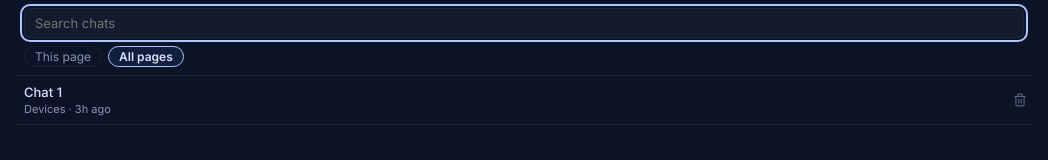
Test: AiChatHistory search and scope › says nothing matched when a search finds no chats
Expected: the button with test id "ai-chat-history-item-1" is shown, top-left (12, 76), bottom-right (1004, 124)
In the search field with test id "ai-chat-history-search": (524, 23) top-left (24, 8), bottom-right (1024, 38), type "zzz"
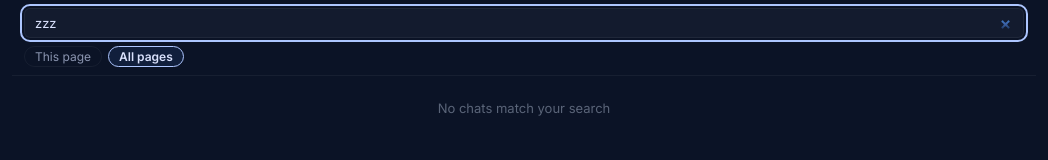
Expected: the element with test id "ai-chat-history-empty" reads "No chats match your search", top-left (438, 100), bottom-right (610, 116)
